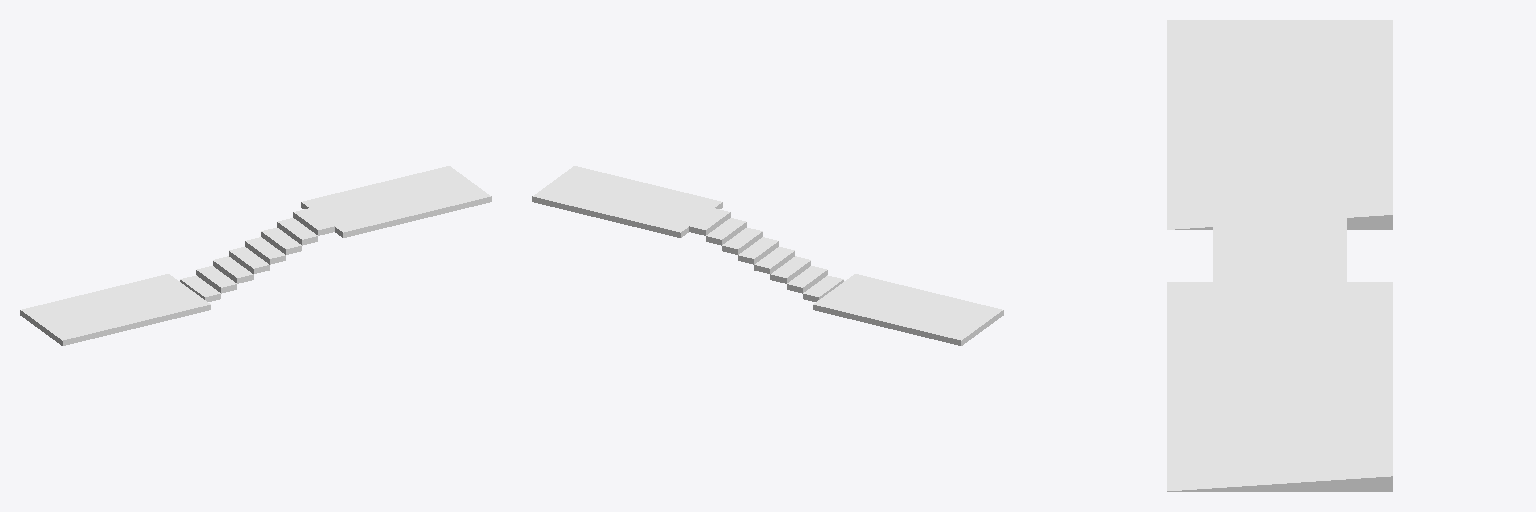
URDF robot description (stairs_1):
<robot name="stairs_1">
  <link name="base_link">
    <visual>
      <origin xyz="0 0 0" rpy="0 0 0" />
      <geometry>
        <mesh filename="package://hpp_environments/meshes/multicontact/daeun/stairs_1.stl"/>
      </geometry>
      <material name="white">
        <color rgba="1 1 1 1"/>
      </material>
    </visual>
    <collision>
      <origin xyz="0 0 0" rpy="0 0 0" />
      <geometry>
        <mesh filename="package://hpp_environments/meshes/multicontact/daeun/stairs_1.stl"/>
      </geometry>
    </collision>
  </link>
</robot>

--- What the picture shows (computed from the rendered views, not written in the file) ---
3 views of the same robot in one strip: view 1: azimuth 30°, elevation 25°; view 2: azimuth 150°, elevation 25°; view 3: azimuth 270°, elevation 25° (orthographic).
Model stairs_1 with 1 links and 0 joints (none), rooted at base_link, posed every joint at zero.
Visible links, largest first — view 1: base_link; view 2: base_link; view 3: base_link.
Boxes of the visible links, x1,y1,x2,y2 form: base_link: (20, 166, 491, 345); base_link: (532, 166, 1003, 345); base_link: (1167, 20, 1392, 491).
Bounding box of the posed robot: 7.95 × 1.35 × 0.8 m (x, y, z).
Meshes: 1 distinct files referenced, 1 mesh visuals loaded (1 binary STL).
